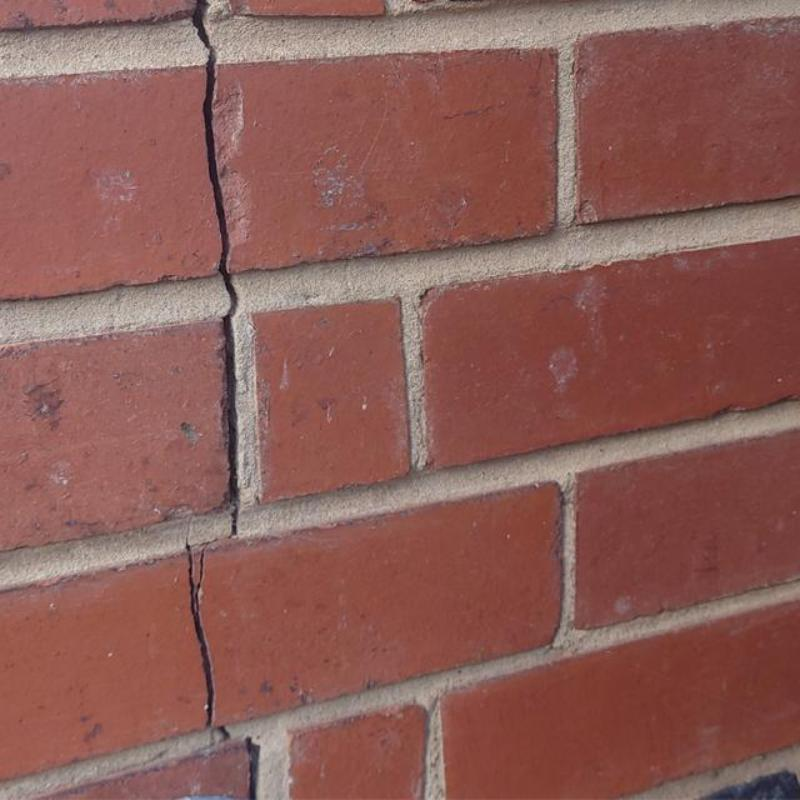crack: (192, 1, 238, 536), (188, 547, 212, 727), (195, 540, 212, 594), (248, 738, 259, 799), (217, 725, 232, 742)
